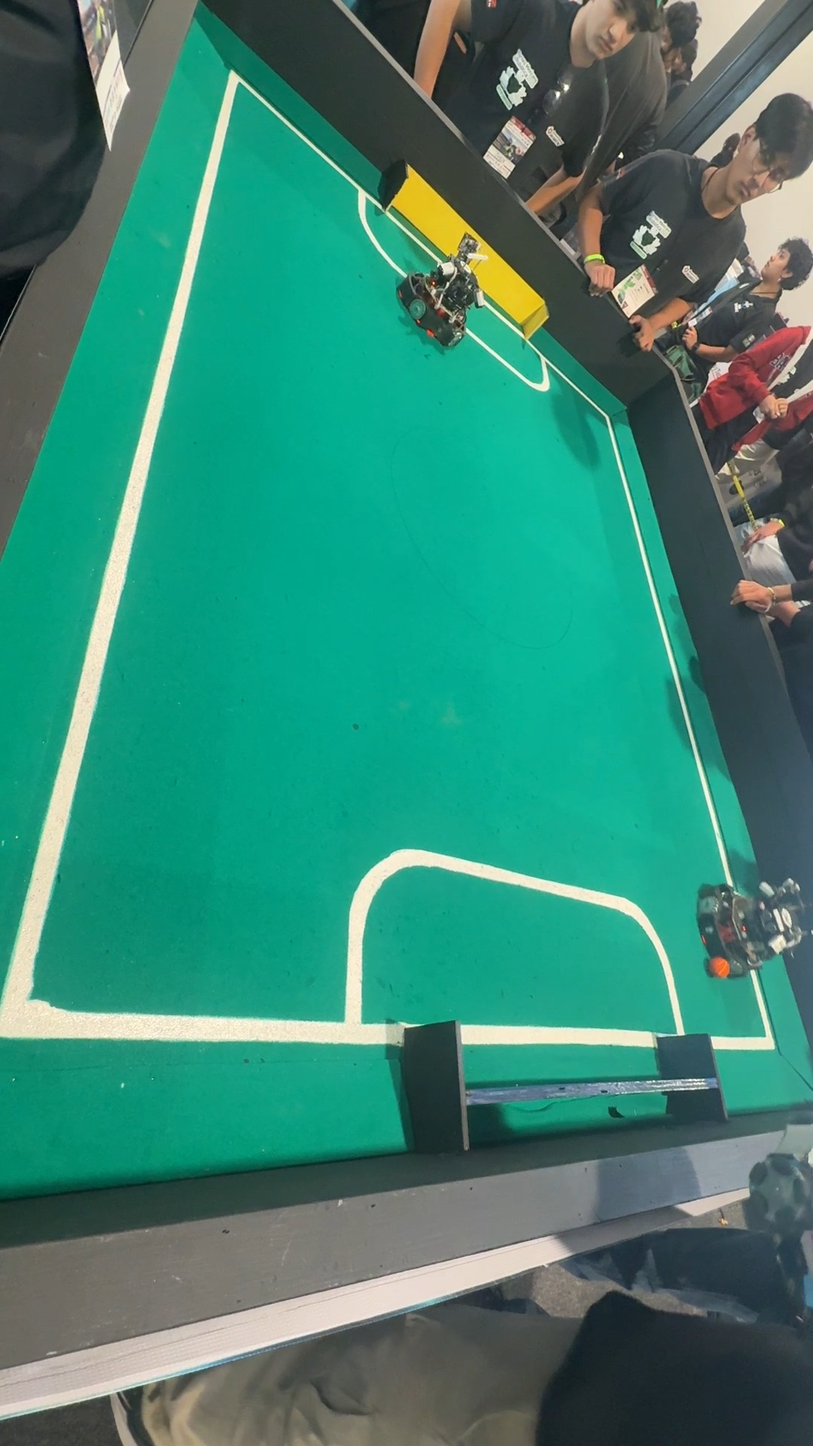Robot: (695, 864, 813, 982), (391, 230, 489, 369)
pelota: (702, 948, 732, 983)
